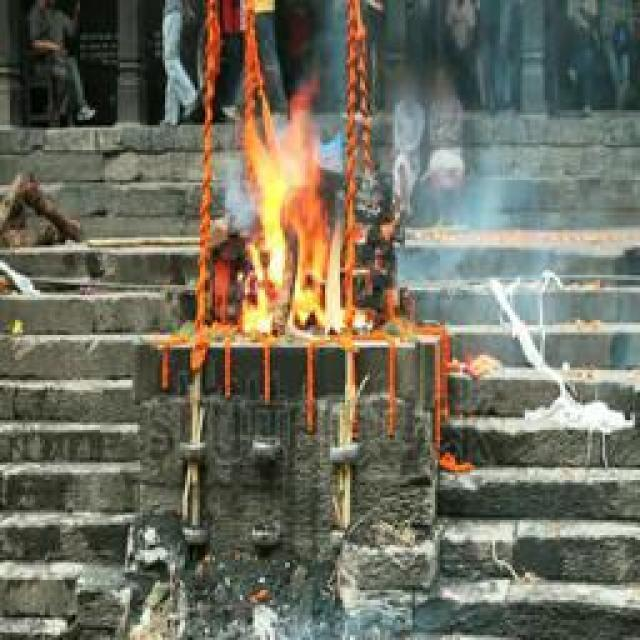Fire: (238, 91, 352, 338)
